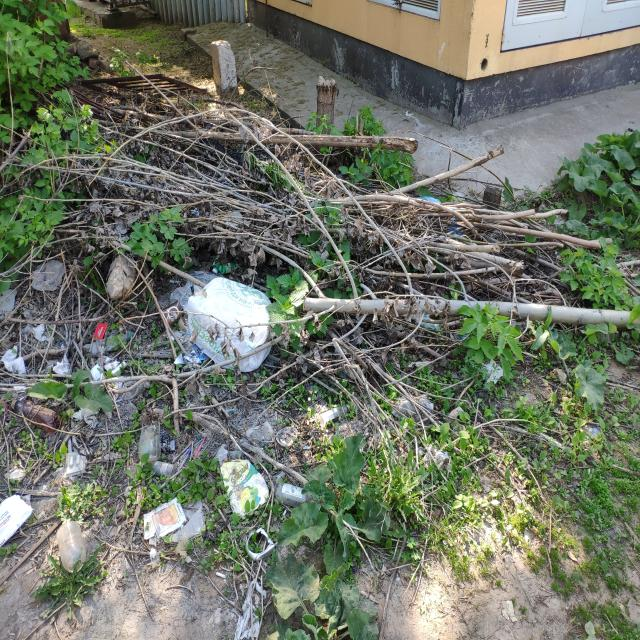lixo domiciliar: (218, 460, 262, 516), (0, 493, 36, 549), (143, 499, 188, 541), (56, 520, 87, 572), (31, 260, 66, 290), (274, 482, 310, 507), (1, 348, 27, 374), (71, 408, 99, 428), (500, 599, 518, 624), (102, 356, 124, 376), (24, 325, 48, 343), (52, 356, 72, 376), (153, 460, 175, 478), (581, 424, 601, 439), (8, 467, 27, 482), (214, 444, 228, 464), (262, 421, 275, 442), (90, 364, 104, 382), (50, 468, 65, 483), (212, 608, 222, 626), (22, 494, 32, 508), (224, 408, 234, 418), (216, 571, 227, 579), (170, 440, 175, 451)
restos de madeira: (244, 337, 471, 411), (280, 437, 380, 575), (269, 154, 387, 258), (159, 182, 315, 260), (80, 110, 212, 194), (482, 418, 640, 469), (74, 91, 239, 139), (0, 292, 179, 331), (442, 244, 567, 298), (392, 179, 474, 245), (460, 219, 618, 253), (70, 200, 153, 258), (353, 302, 430, 354), (263, 273, 331, 327), (251, 240, 328, 284), (271, 132, 407, 154), (0, 126, 35, 188), (102, 375, 178, 402), (457, 207, 561, 224), (373, 224, 407, 273), (130, 556, 155, 622), (4, 29, 16, 163), (158, 260, 218, 285), (315, 73, 339, 126)
